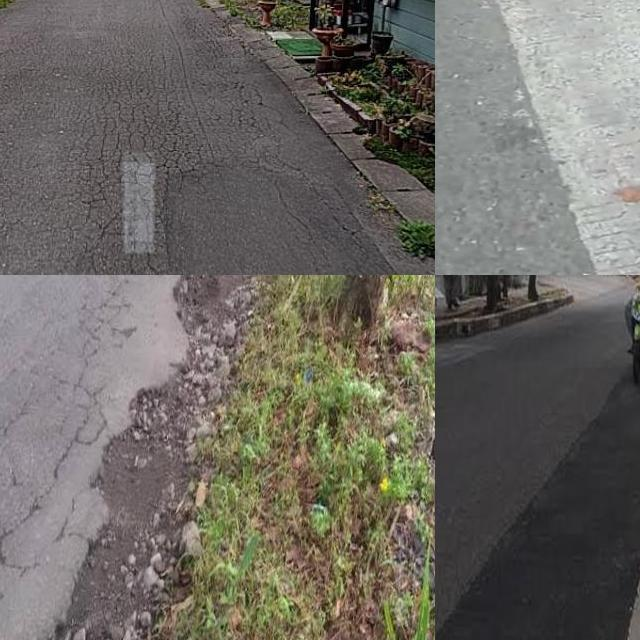Pinggir: (29, 275, 286, 640)
Retak Buaya: (80, 86, 226, 275)
Sambungan: (438, 371, 640, 640), (435, 0, 594, 275)
